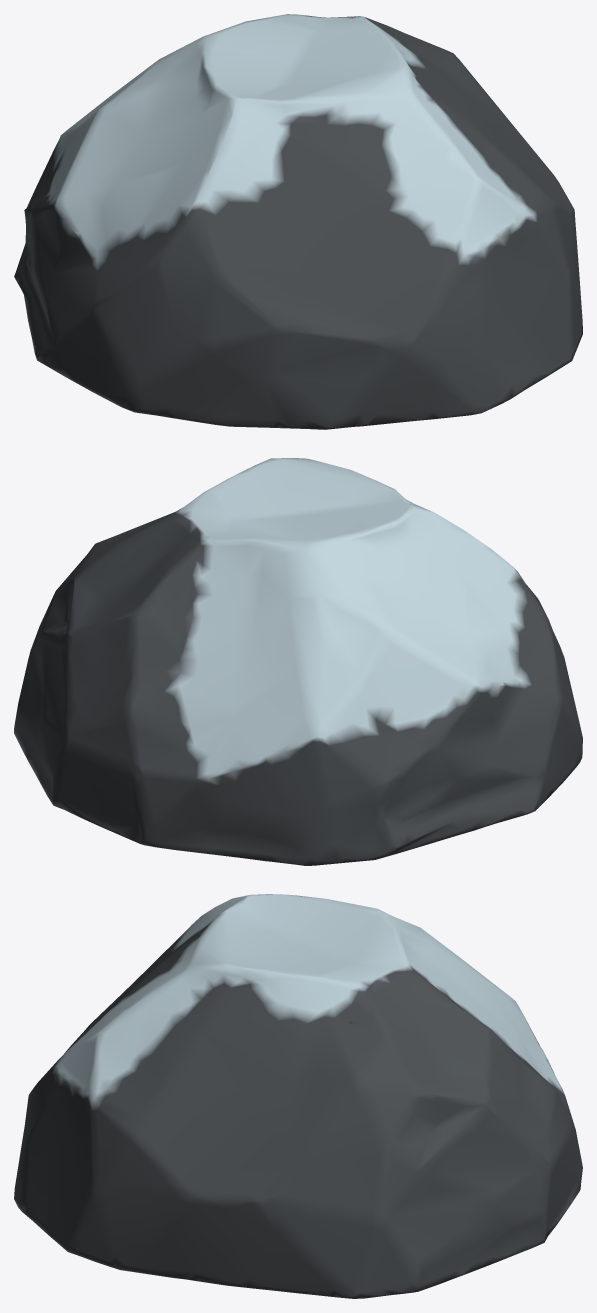
The model's file is gen3d-snowy-rock-lod0.glb.
3 renders of one model, top to bottom at view 1: azimuth 30°, elevation 25°; view 2: azimuth 150°, elevation 25°; view 3: azimuth 270°, elevation 25°, orthographic. The views are drawn at different scales.
Visible parts, largest first — view 1: part_0; view 2: part_0; view 3: part_0.
Part boxes in pixels (box(x1,y1,x2,y2)): part_0: box(14, 14, 582, 429); part_0: box(14, 458, 582, 865); part_0: box(14, 894, 582, 1298).
Size of the model in its own units: 2.03 by 1 by 2.05.
